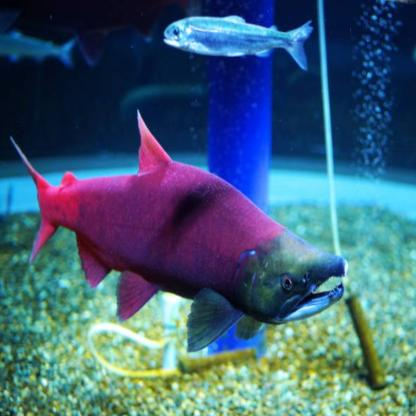sockeye: (9, 128, 344, 332)
